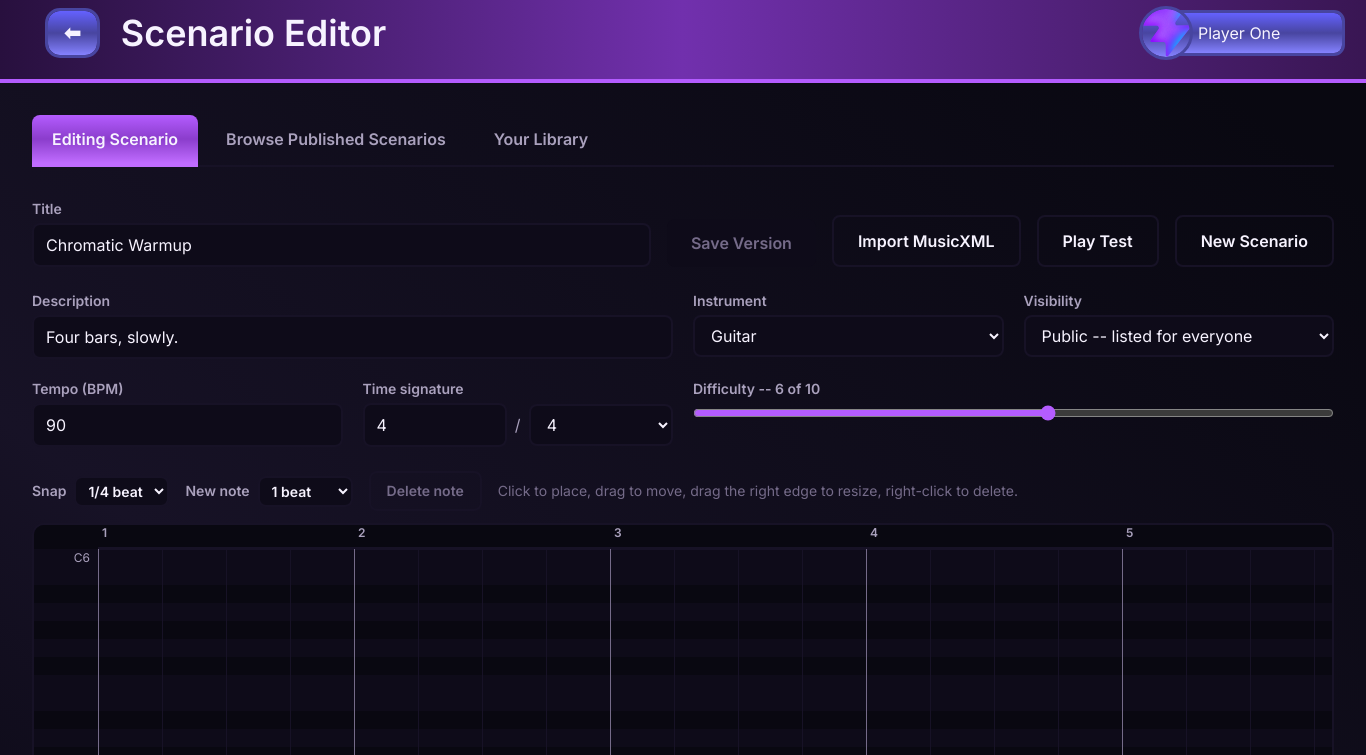
Test: reopening a saved scenario › returns to the blank default state from New Scenario
Click the button "New Scenario".
click(1254, 241)  # box [1175,215,1334,267]
(page scrolled)
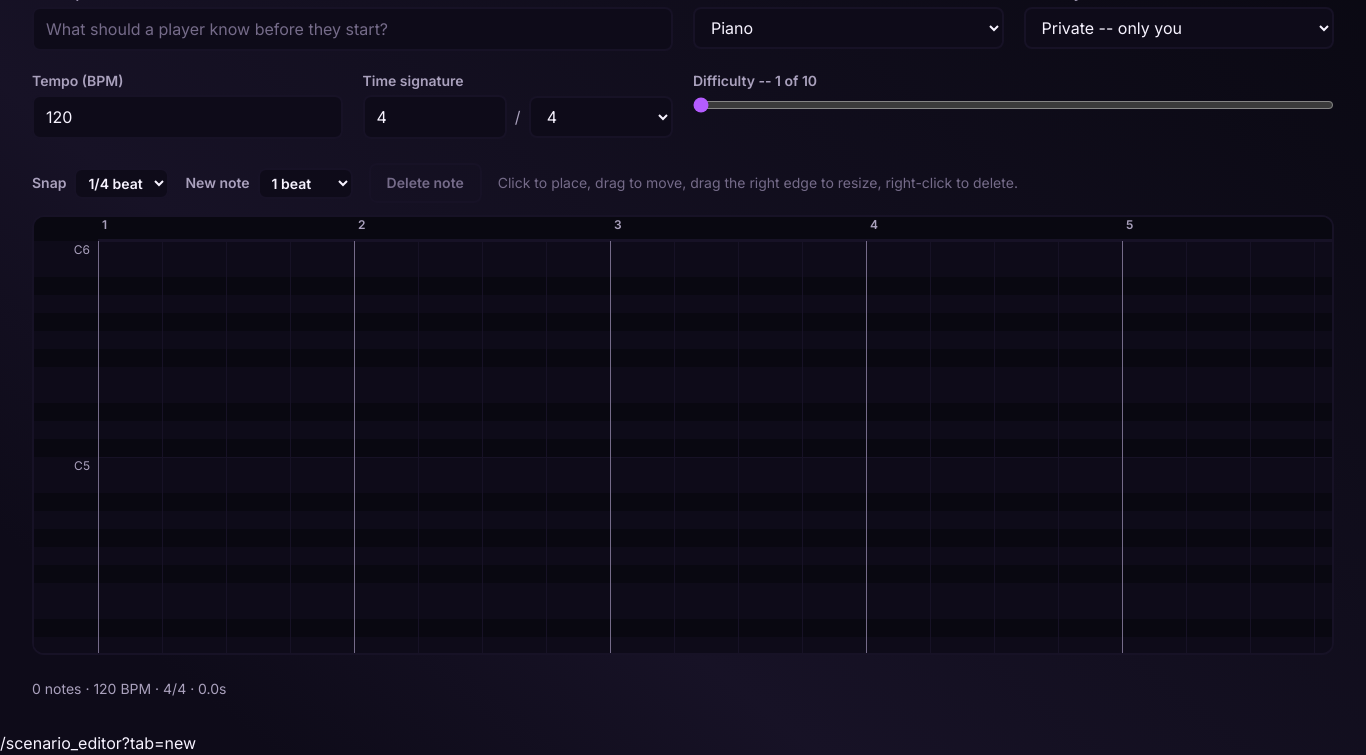
Expected: the text "0 notes · 120 BPM · 4/4 · 0.0s" is shown, [32,680,226,697]
Expected: the text with test id "location" no longer shows "scenario=", [0,733,196,753]
